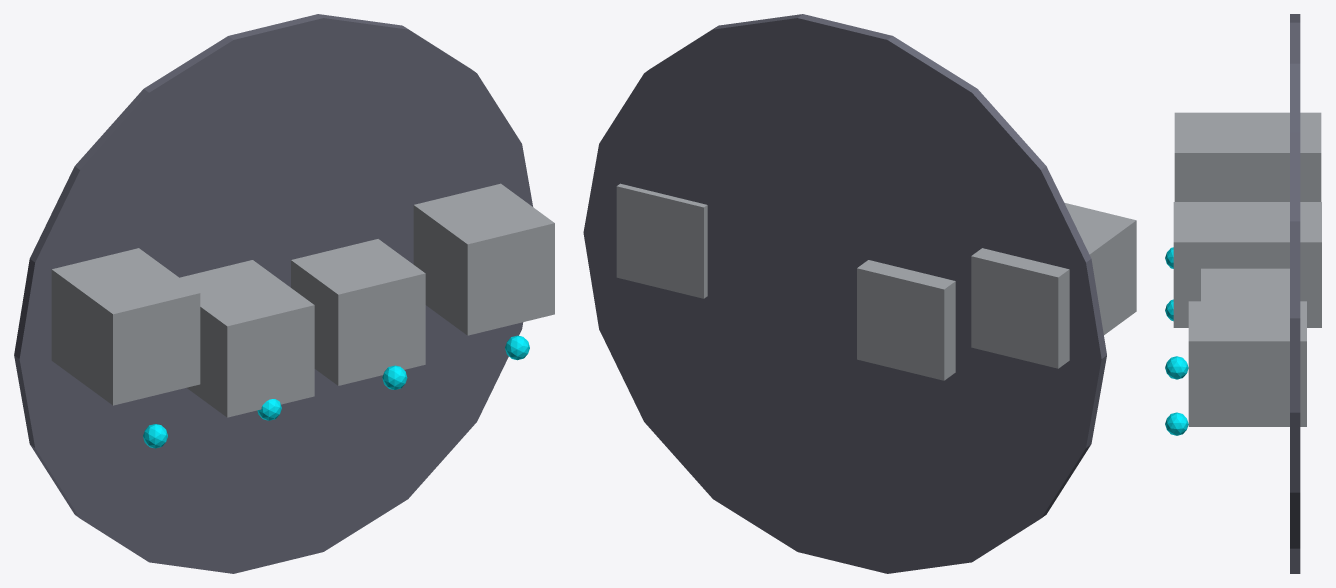
The model's file is 03_ambient_object_cluster.glb.
The picture shows the model from 3 angles, left to right: view 1: azimuth 30°, elevation 25°; view 2: azimuth 150°, elevation 25°; view 3: azimuth 270°, elevation 25°; orthographic projection. The views are drawn at different scales.
Parts seen in each view (by area): view 1: scatter_base, tech_crate_0, tech_crate_3, tech_crate_1, tech_crate_2; view 2: scatter_base, tech_crate_0, tech_crate_1, tech_crate_3; view 3: tech_crate_3, tech_crate_0, tech_crate_1, scatter_base, tech_crate_2, status_light_2, status_light_3.
Boxes of the visible parts, left/top/right/bottom form: scatter_base: left=14, top=14, right=532, bottom=573; tech_crate_0: left=51, top=248, right=200, bottom=405; tech_crate_3: left=413, top=183, right=554, bottom=335; tech_crate_1: left=180, top=260, right=314, bottom=417; tech_crate_2: left=291, top=239, right=425, bottom=385; scatter_base: left=583, top=14, right=1106, bottom=573; tech_crate_0: left=971, top=202, right=1136, bottom=368; tech_crate_1: left=857, top=260, right=955, bottom=380; tech_crate_3: left=616, top=183, right=707, bottom=298; tech_crate_3: left=1188, top=301, right=1306, bottom=426; tech_crate_0: left=1174, top=112, right=1321, bottom=201; tech_crate_1: left=1173, top=202, right=1321, bottom=327; scatter_base: left=1290, top=14, right=1300, bottom=573; tech_crate_2: left=1201, top=268, right=1289, bottom=301; status_light_2: left=1165, top=356, right=1188, bottom=379; status_light_3: left=1165, top=412, right=1188, bottom=435.
Bounding box in the file's own units: 1.9 × 1.87 × 0.5304.
